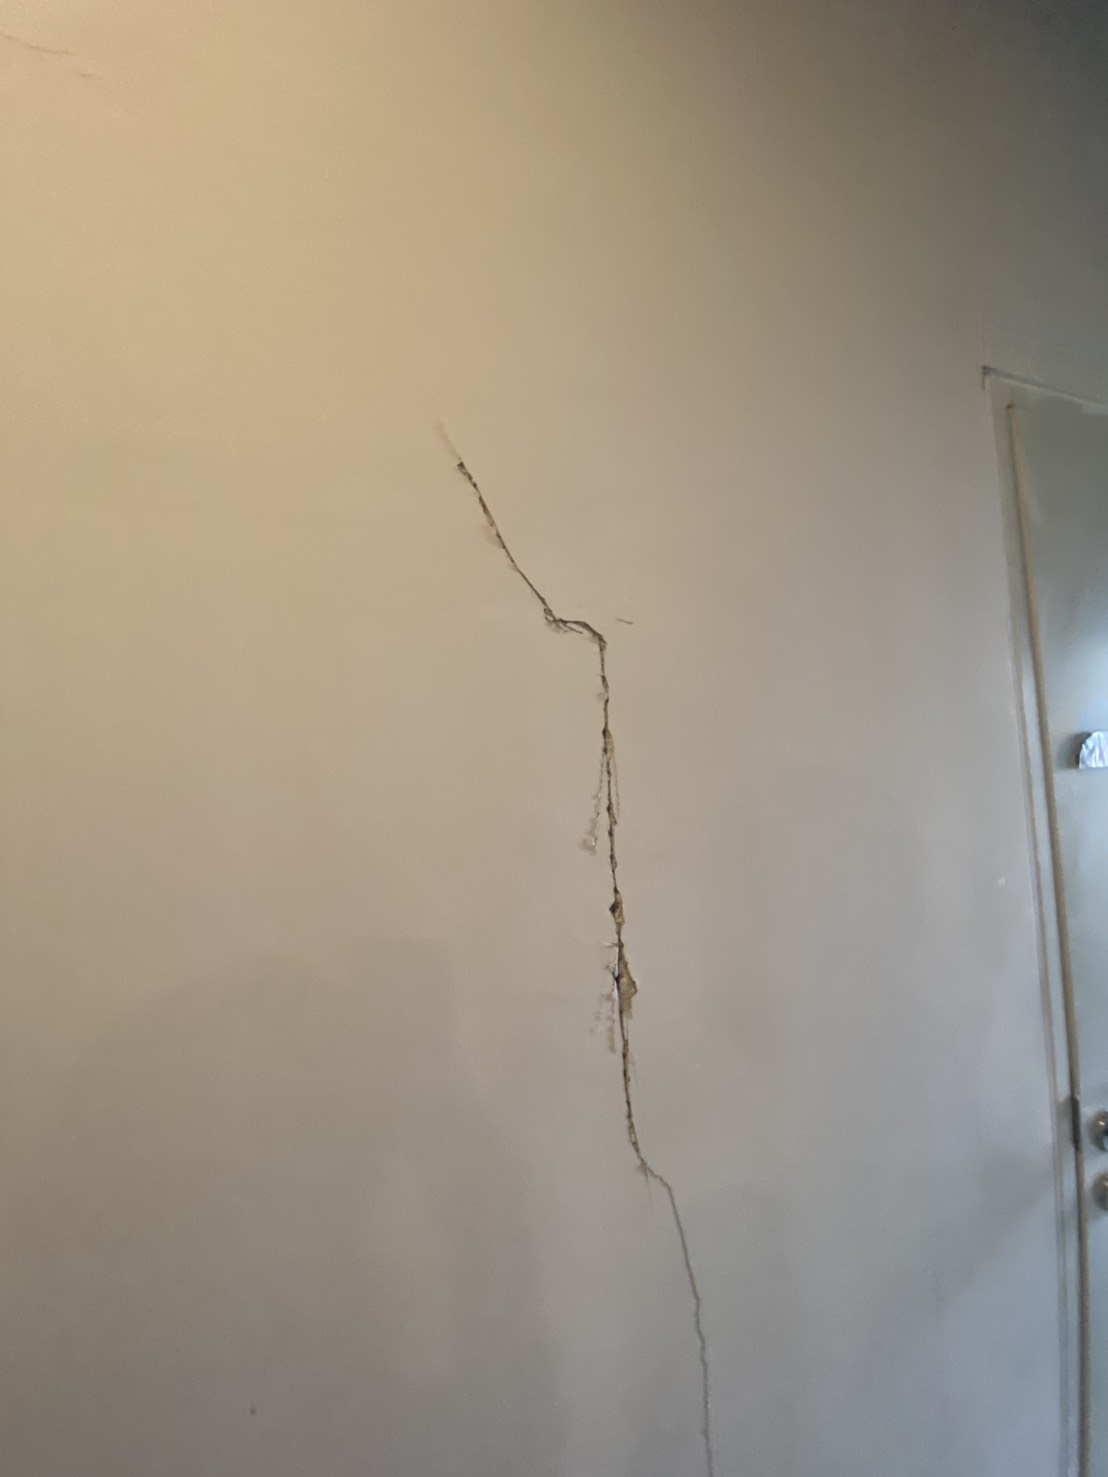Medium: (395, 418, 892, 1413)
